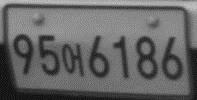1: (112, 33, 132, 80)
5: (38, 33, 60, 76)
6: (160, 35, 183, 81), (88, 33, 110, 78)
8: (135, 36, 158, 79)
9: (12, 32, 34, 75)
어: (61, 42, 85, 78)
